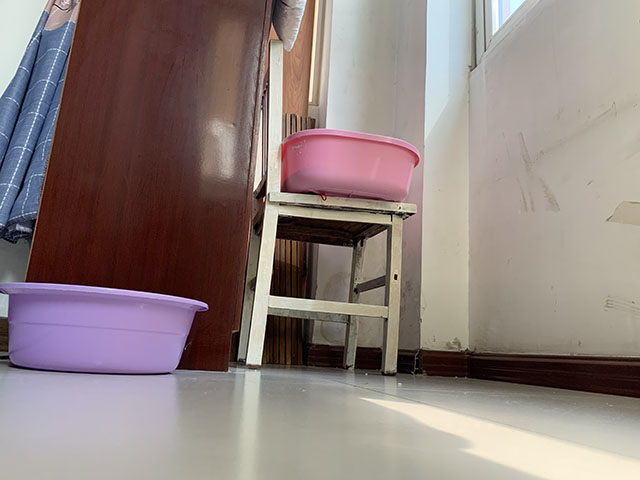stool: (236, 38, 421, 377)
